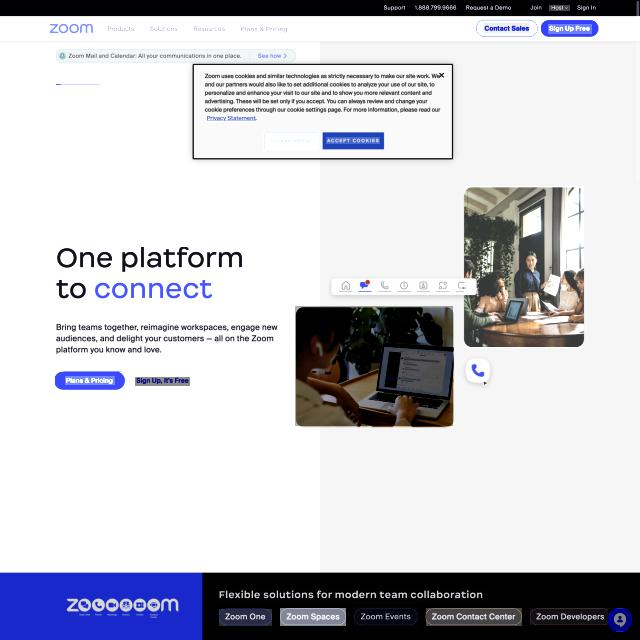CheckBox: (56, 49, 296, 63), (56, 372, 128, 390), (322, 132, 384, 150), (540, 19, 598, 38), (476, 20, 538, 37), (263, 132, 319, 150), (608, 609, 633, 631), (135, 377, 190, 386), (206, 115, 255, 123)
alert: (549, 5, 570, 11)
badge: (0, 572, 640, 640)
bag: (0, 0, 640, 44)
breadcrumbs: (217, 588, 487, 603)
carousel: (613, 612, 629, 629), (439, 71, 445, 79)
copy: (464, 186, 584, 348), (295, 306, 453, 426)
data feed: (484, 23, 529, 33), (67, 376, 117, 385), (548, 24, 592, 34), (326, 137, 380, 144), (271, 138, 312, 144)
date picker: (48, 21, 96, 36)
decoration: (106, 23, 290, 37), (381, 3, 599, 14)
header: (192, 63, 454, 160)
heading: (54, 83, 102, 87)
illustration: (426, 608, 522, 626), (530, 608, 610, 625), (354, 607, 418, 626), (280, 608, 346, 626), (219, 609, 272, 626)
image: (51, 248, 253, 304)
